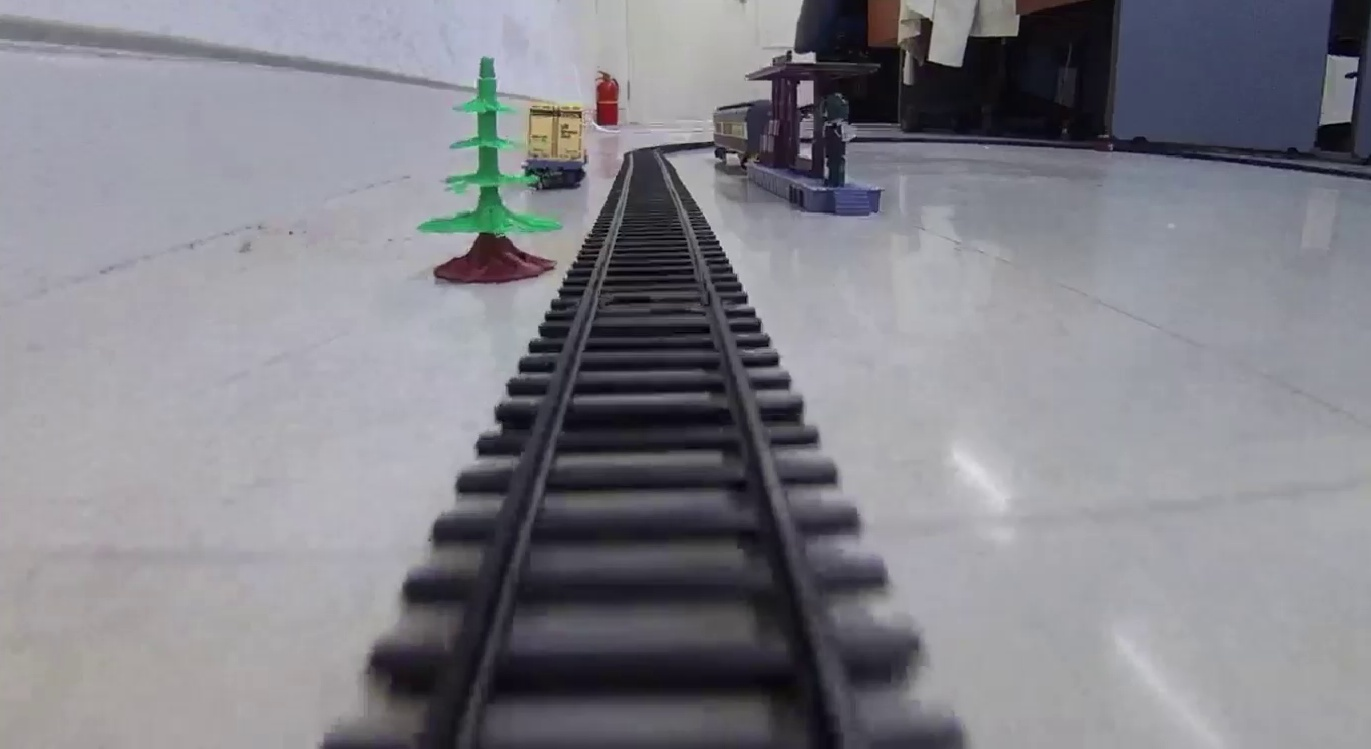tree: (413, 56, 562, 285)
